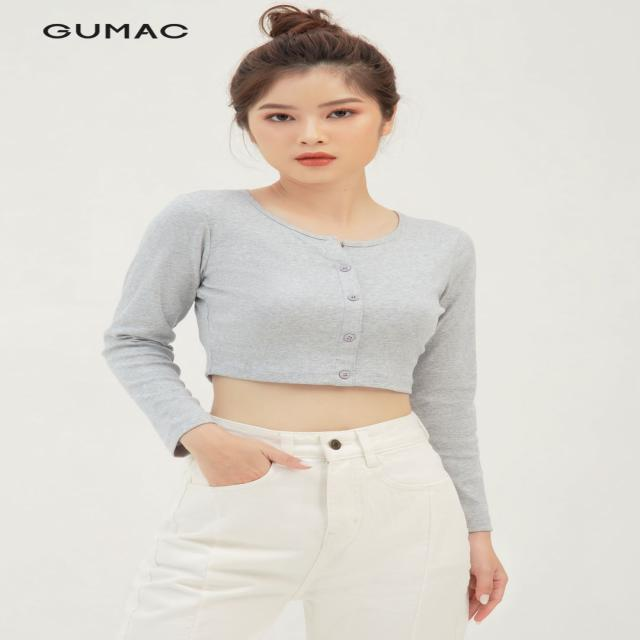clothes: (98, 181, 513, 640)
